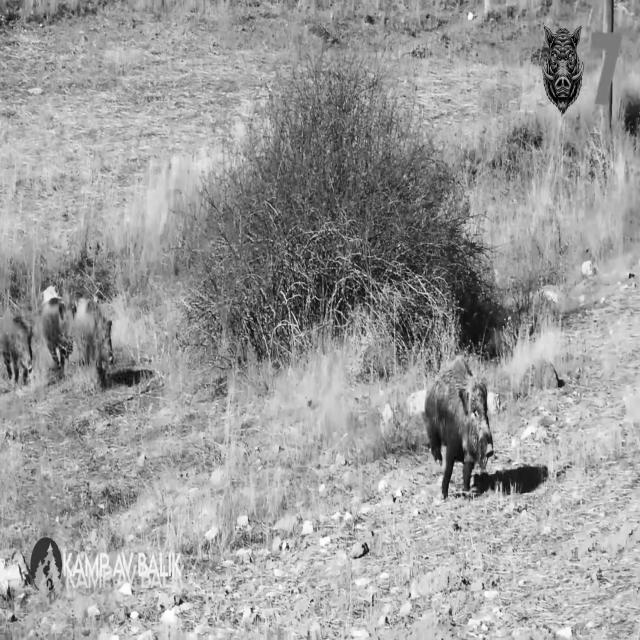boar: (425, 356, 493, 497), (74, 297, 113, 381), (41, 295, 72, 377), (0, 311, 31, 383)
